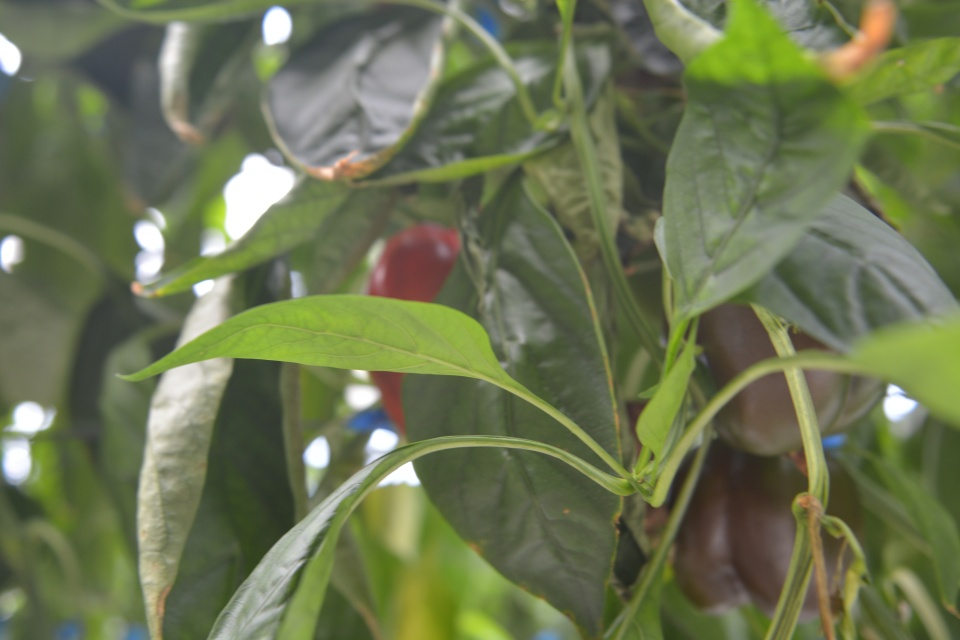fruit: (664, 291, 890, 461), (668, 439, 860, 623), (366, 220, 460, 436)
